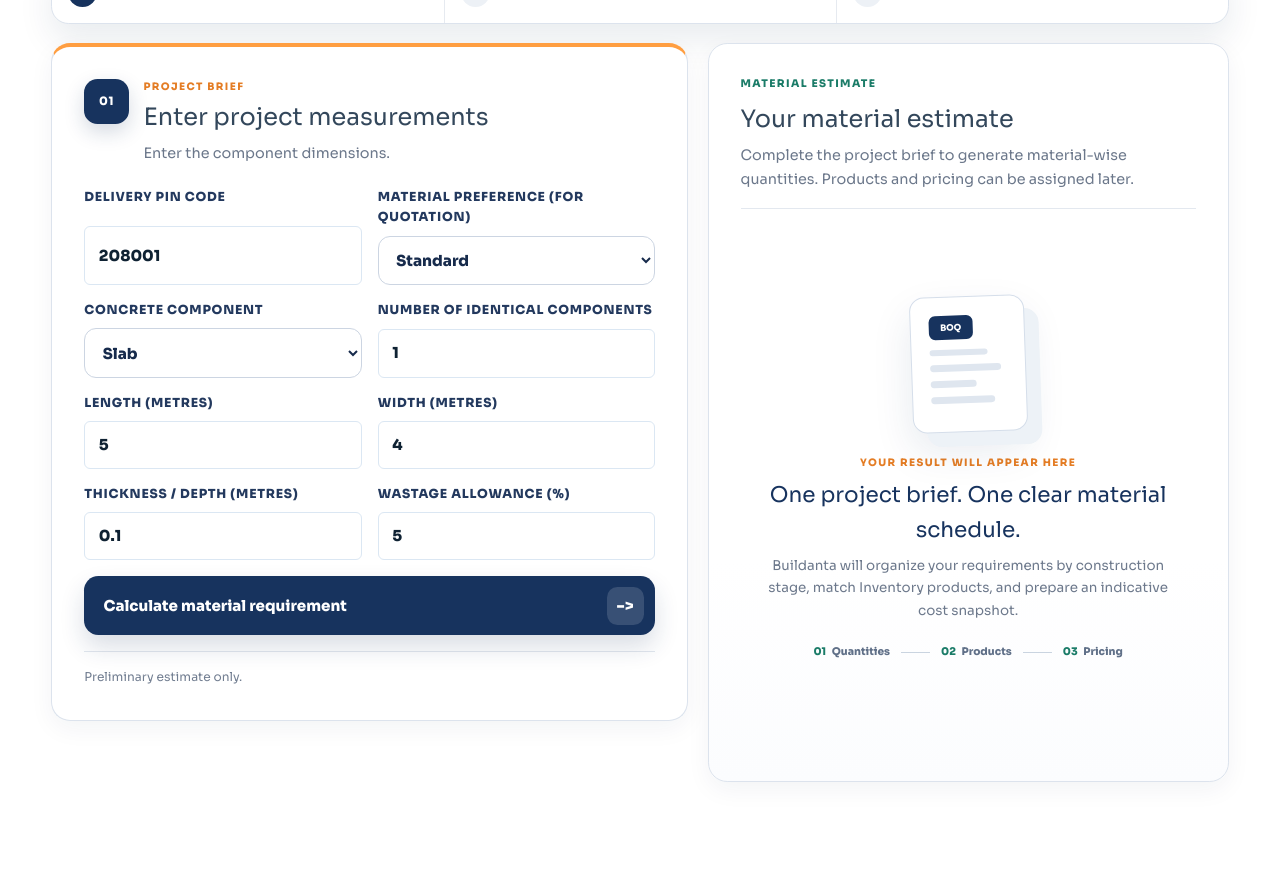
Test: CalculatorWizard › submits the project brief and renders the returned estimate
The image size is (1280, 877).
Step 1. Click the text "Calculate material requirement" → (225, 606), box [103,594,347,618]
(page scrolled)
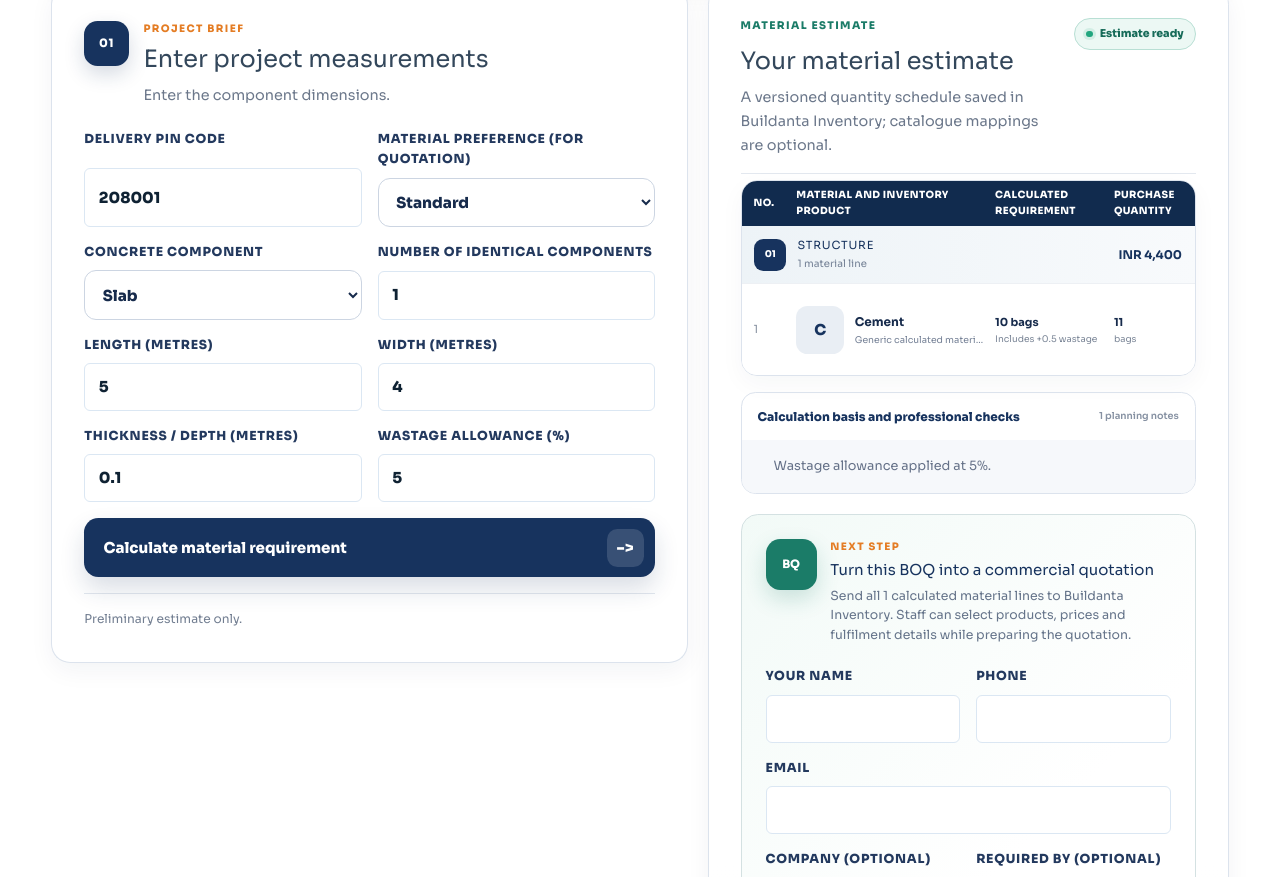
expect the text "Cement" is shown: met, box [855,314,904,329]
